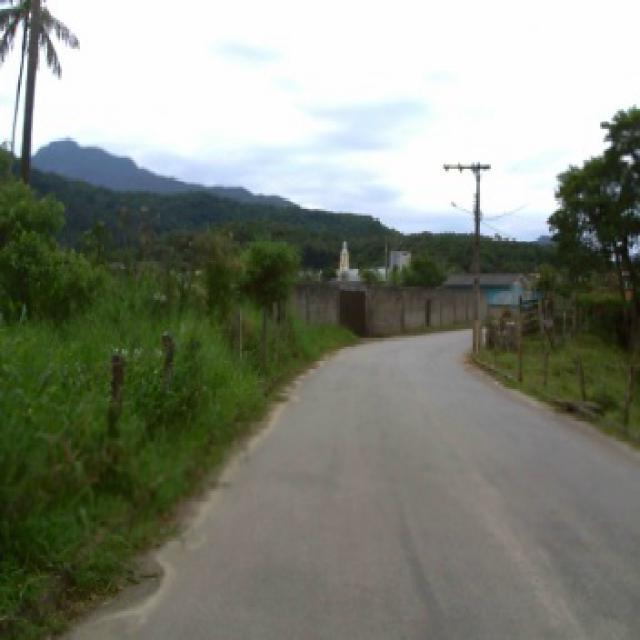Poth-hole: (560, 400, 578, 413)
